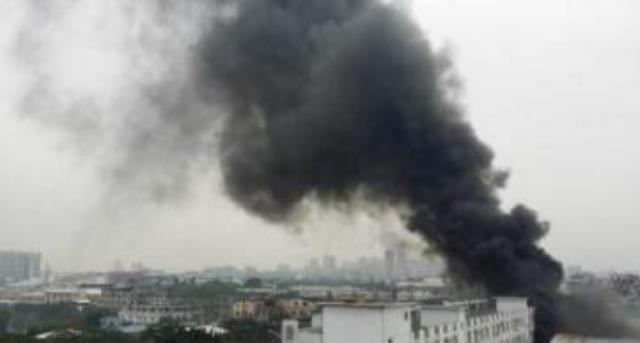smoke: (230, 1, 404, 200), (448, 228, 556, 297), (408, 56, 448, 225), (452, 136, 501, 225), (564, 290, 632, 329)
